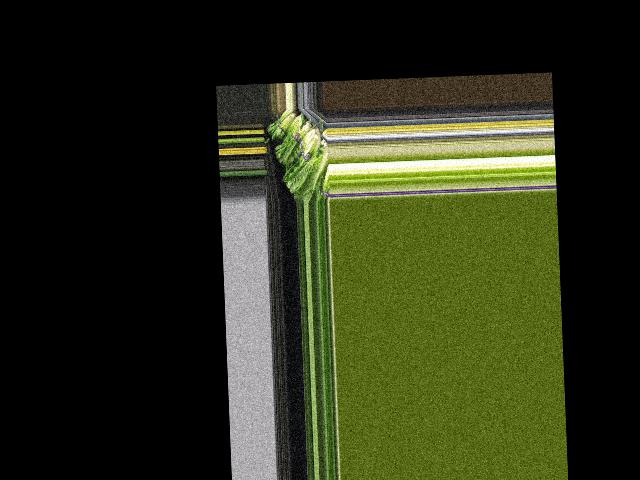lettuce: (287, 147, 327, 202)
